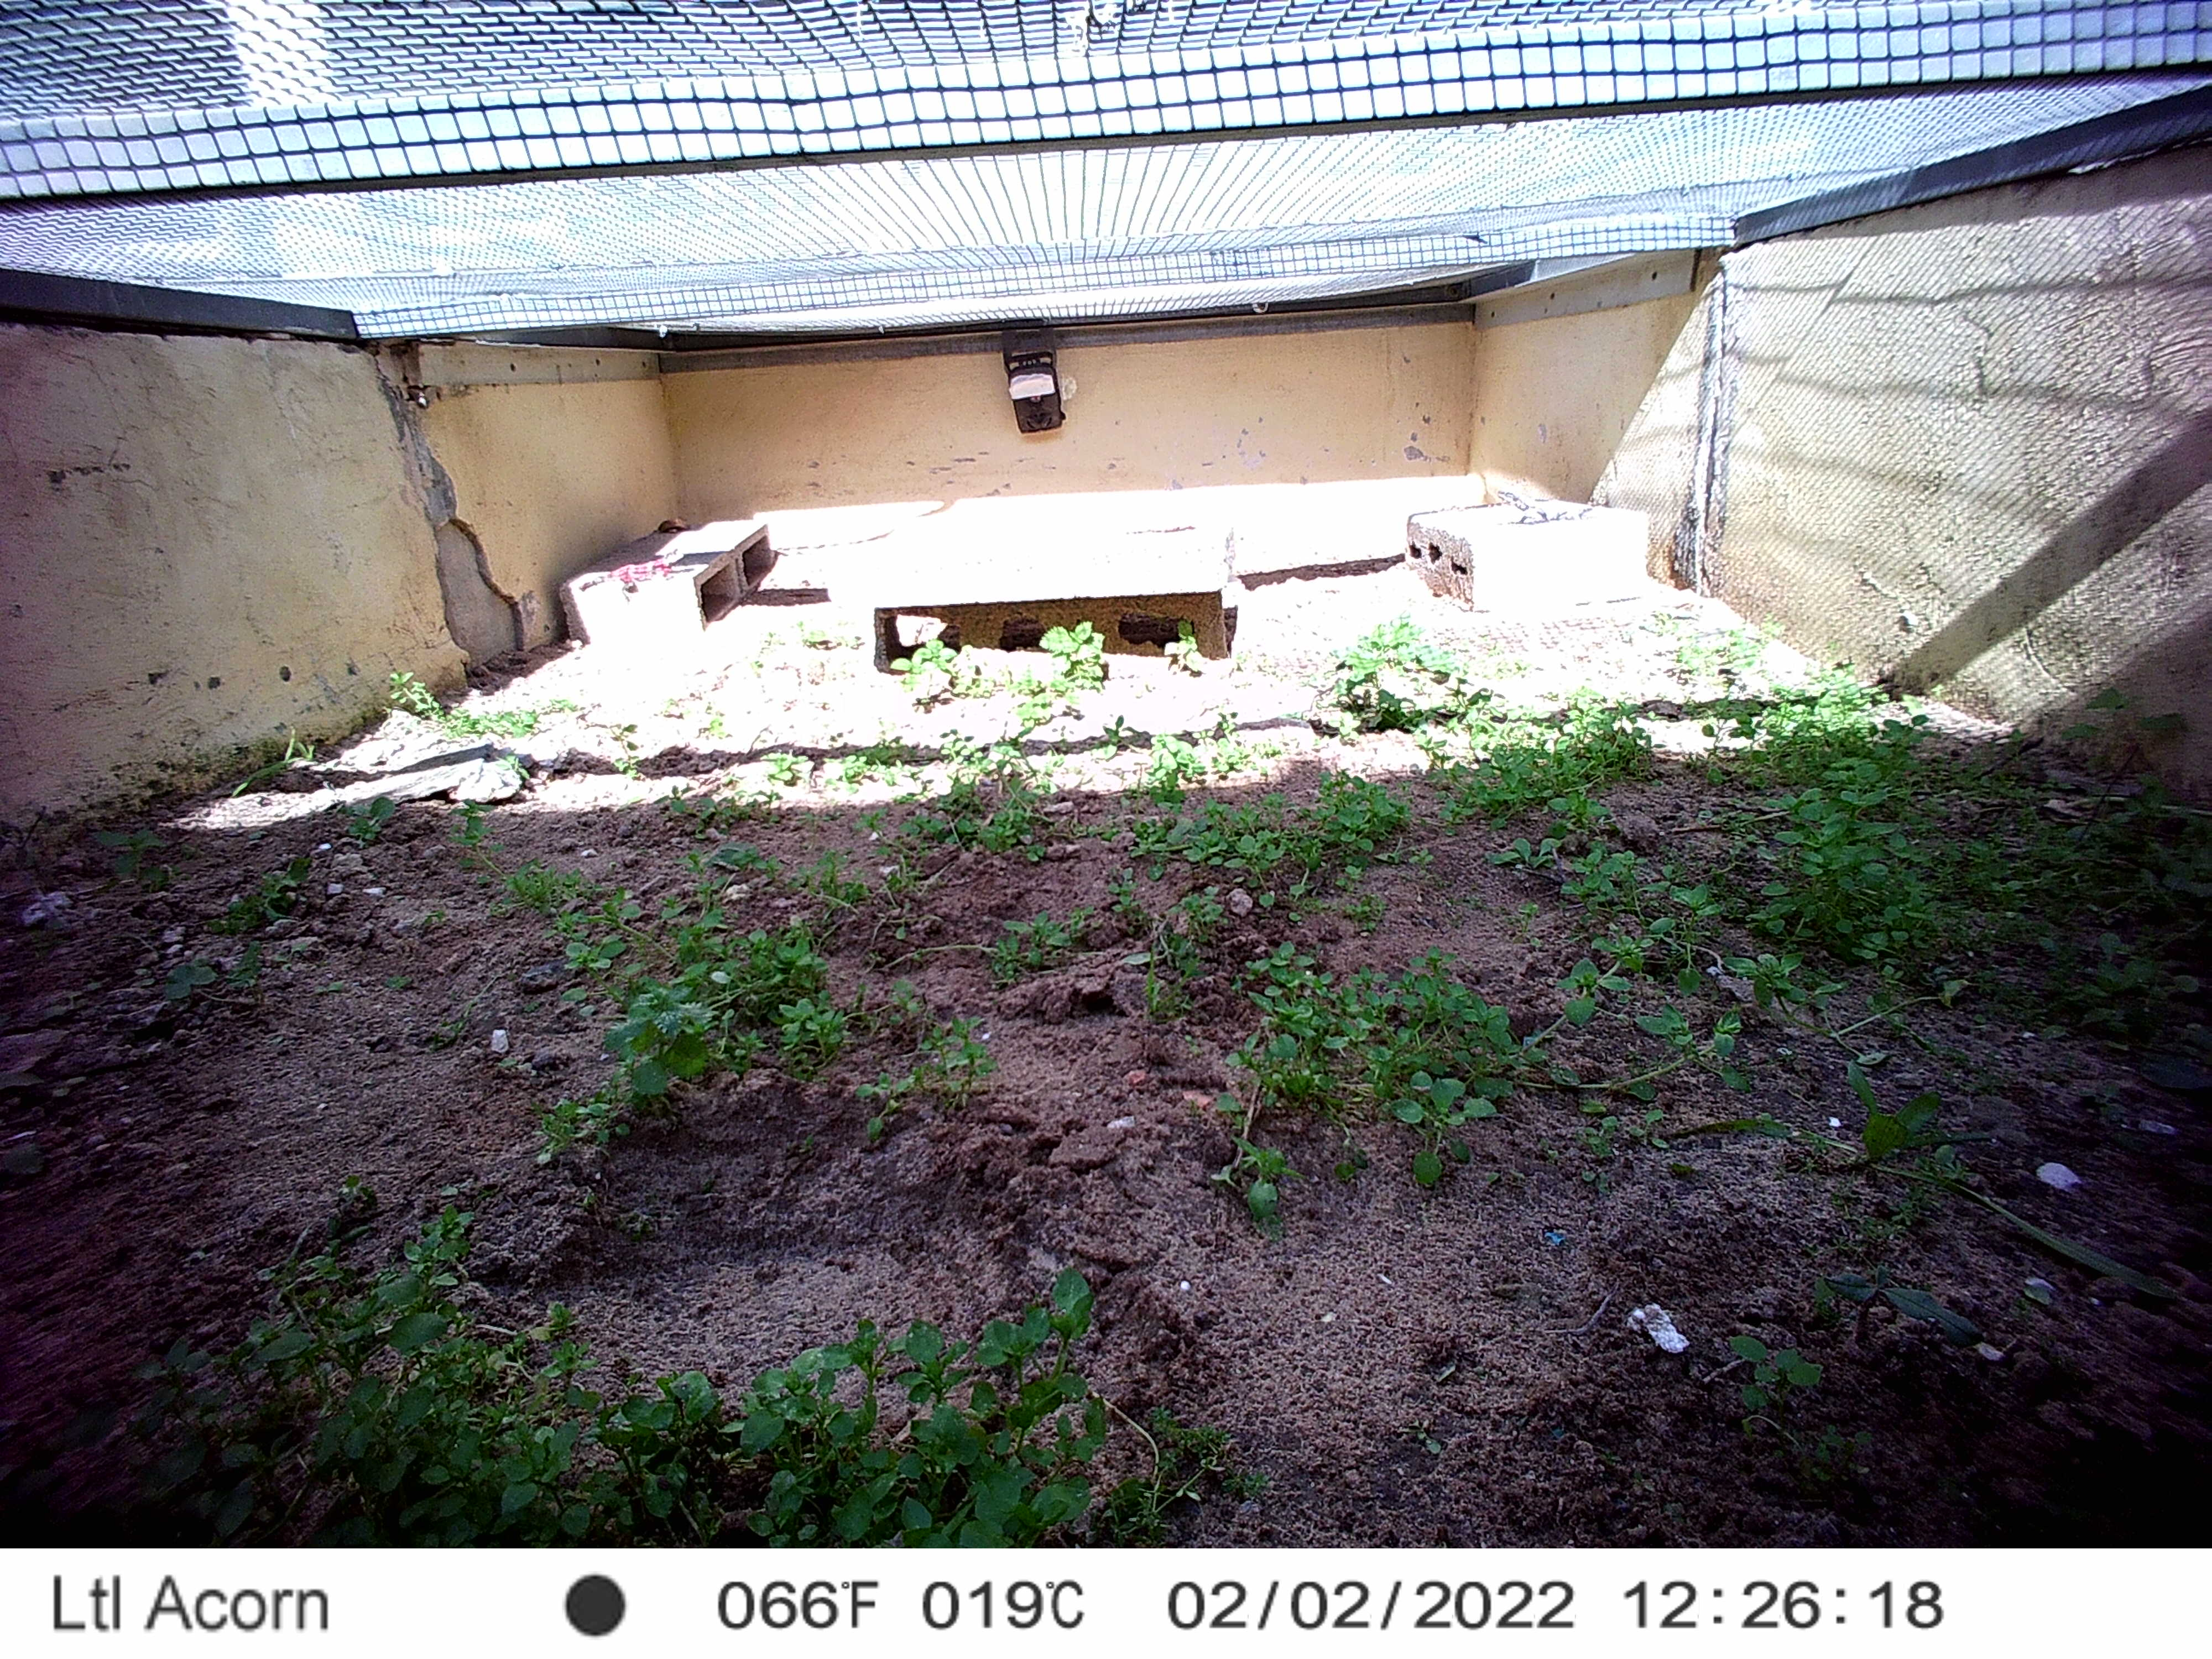lizard: (575, 545, 698, 608), (1496, 486, 1611, 530)
